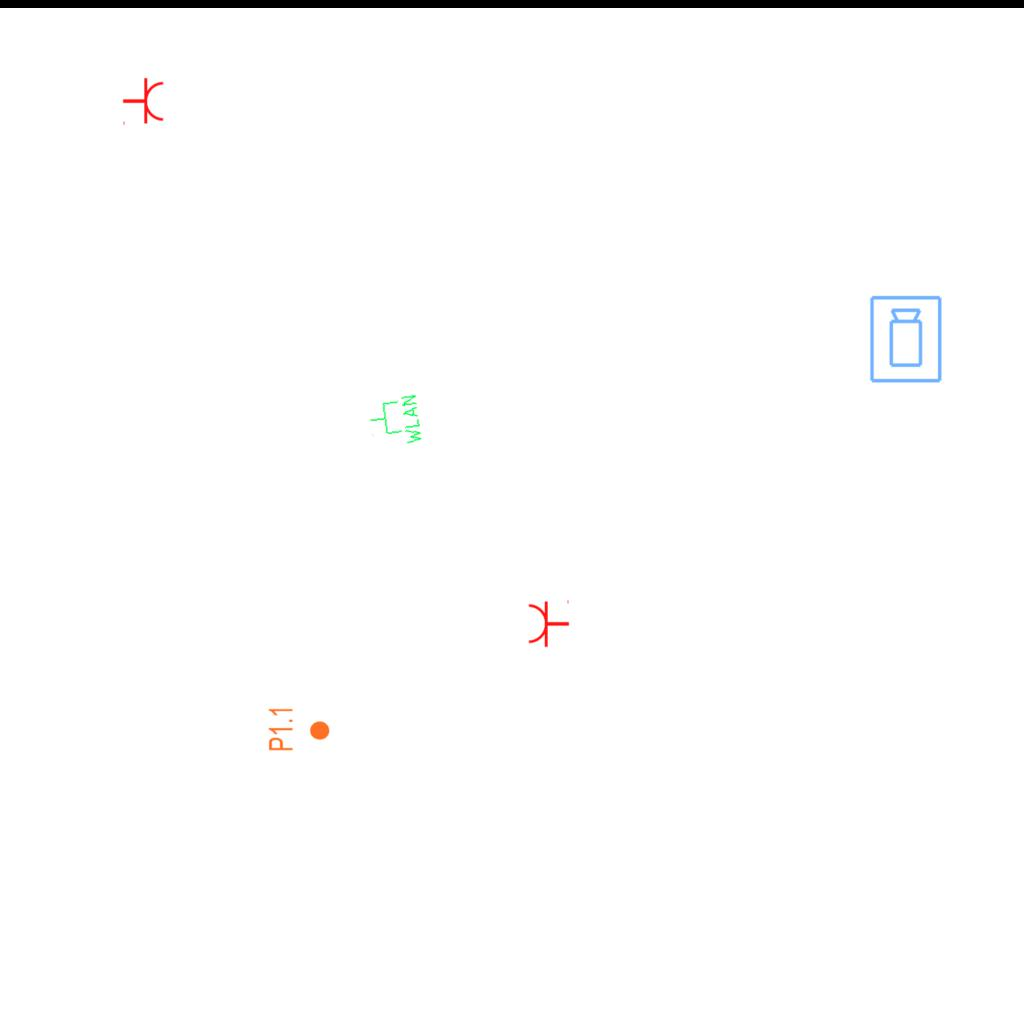Downlight_LED_Einbauleuchten_Flur: (267, 706, 331, 752)
KFO_Kamera_mit_Festobjektiv: (868, 294, 945, 385)
Schukosteckdose_einfach: (527, 598, 570, 648), (122, 77, 165, 127)
WLAN: (365, 392, 425, 452)
